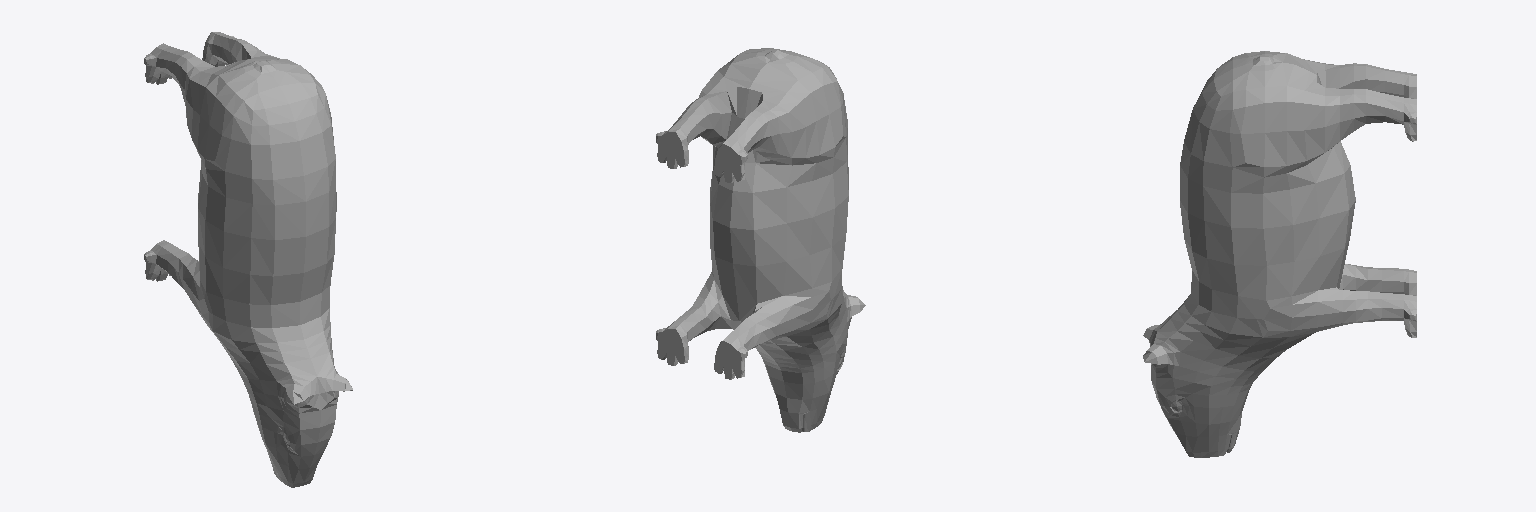
The model's file is capivara.obj.
3 renders of one model, left to right at view 1: azimuth 30°, elevation 25°; view 2: azimuth 150°, elevation 25°; view 3: azimuth 270°, elevation 25°, orthographic.
Parts seen in each view (by area): view 1: object_0, object_1; view 2: object_0, object_1; view 3: object_0, object_1.
Part boxes in pixels (left/top/right/bottom): object_0: left=178, top=51, right=352, bottom=483; object_1: left=144, top=32, right=263, bottom=283; object_0: left=696, top=48, right=865, bottom=432; object_1: left=656, top=95, right=779, bottom=379; object_0: left=1143, top=51, right=1355, bottom=456; object_1: left=1340, top=63, right=1416, bottom=337.
Bounding box in the file's own units: 0.3581 × 1.15 × 0.7163.